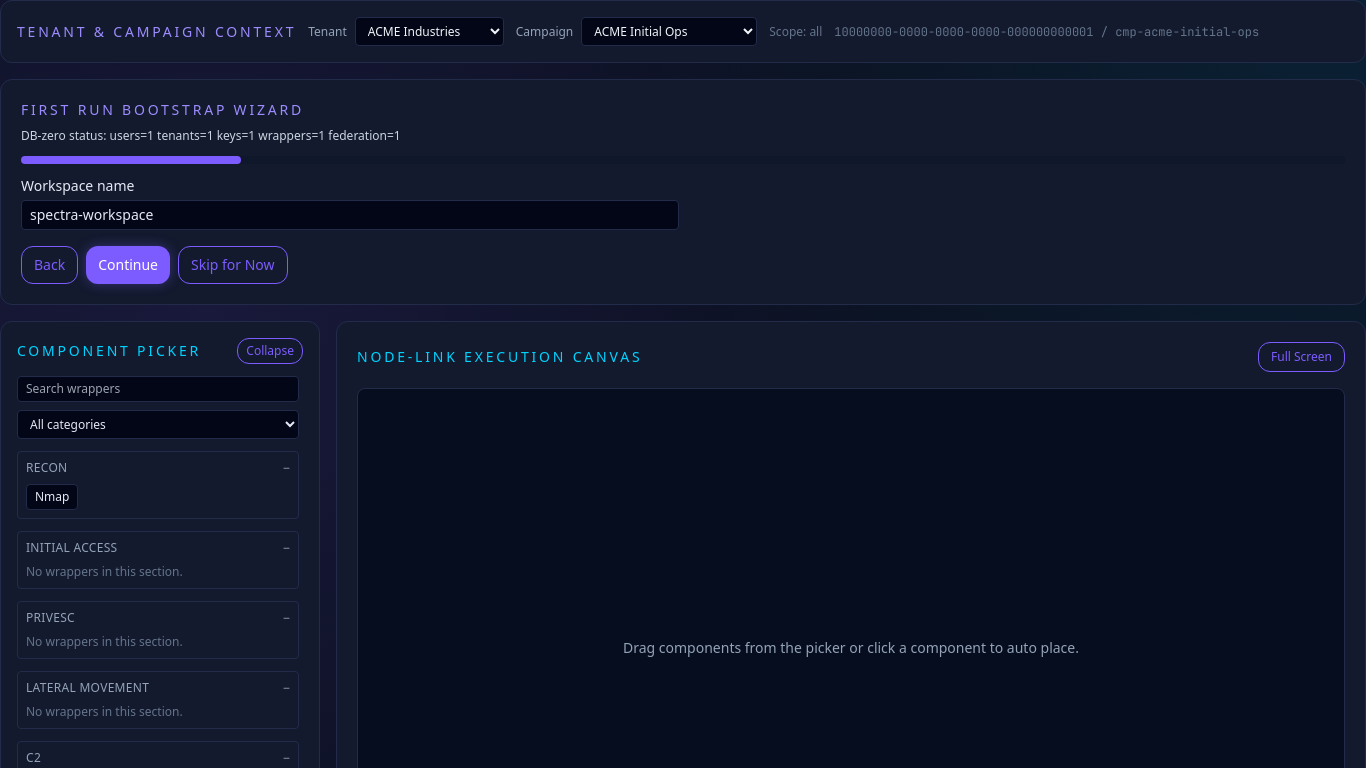
Test: WorkflowWorkbench UI state consistency › supports adding wrappers via picker
The width and height of the screenshot is (1366, 768).
Click the button "Nmap": (52, 497) [26, 484, 78, 510]
(page scrolled)
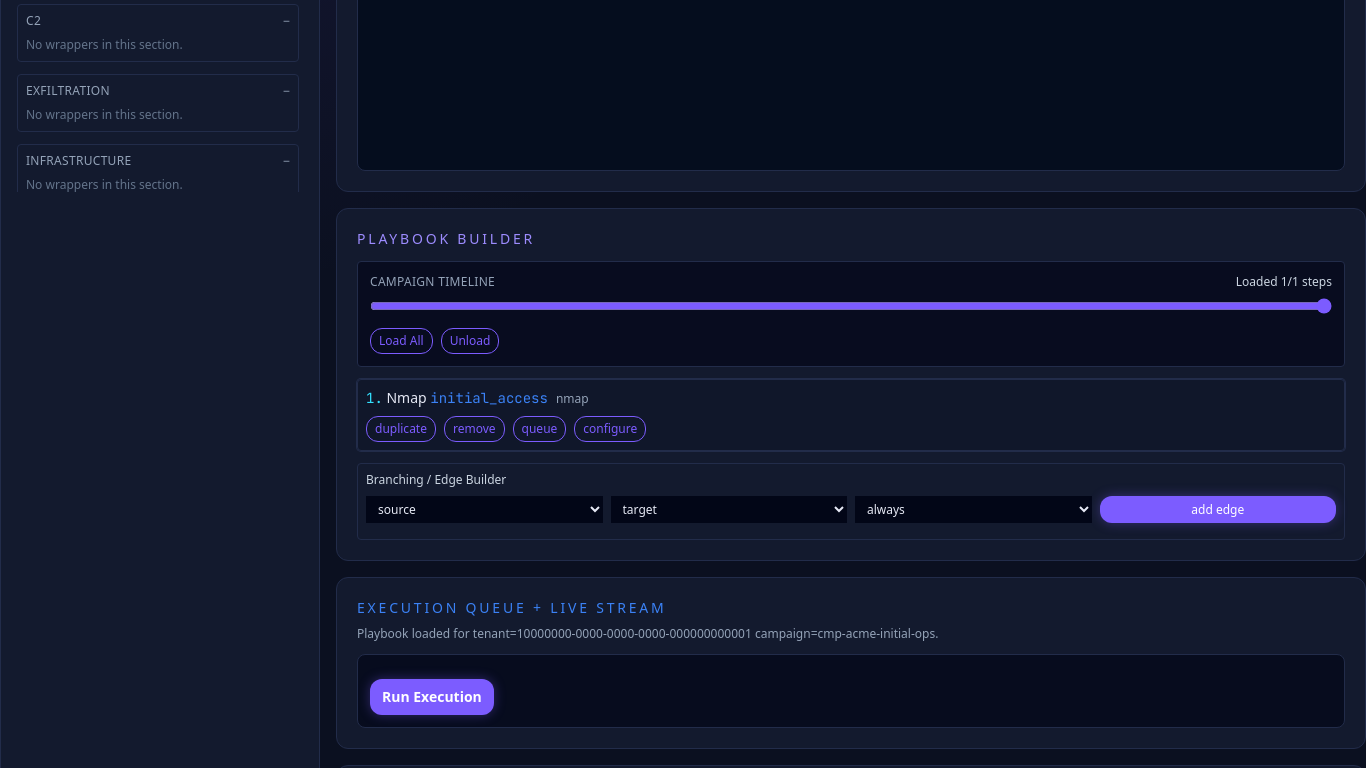
Expected: the element with test id "playbook-list" shows "Nmap", [386, 388, 427, 407]
